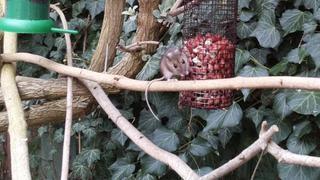mouse: (144, 45, 190, 122)
